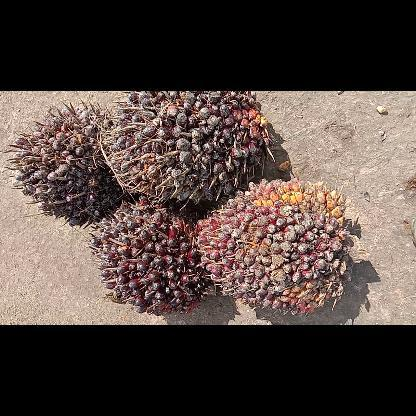Kurang masak: (195, 176, 369, 318), (106, 91, 276, 207), (0, 100, 122, 224), (88, 206, 212, 318)
